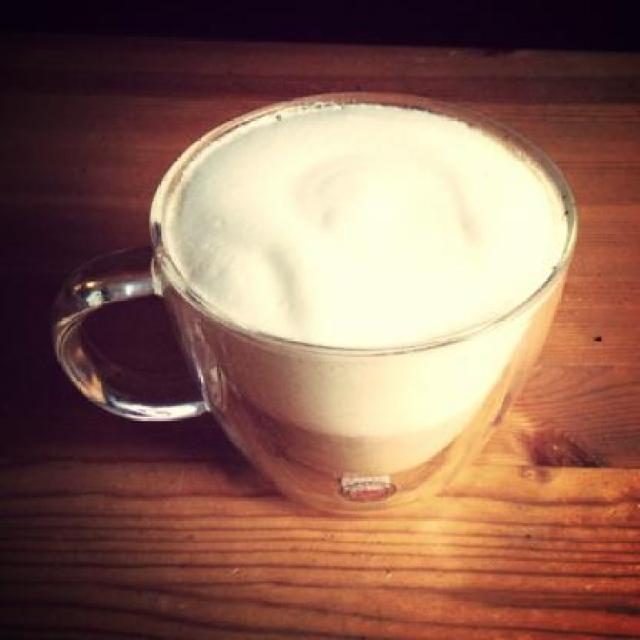Milk: (170, 109, 570, 476)
